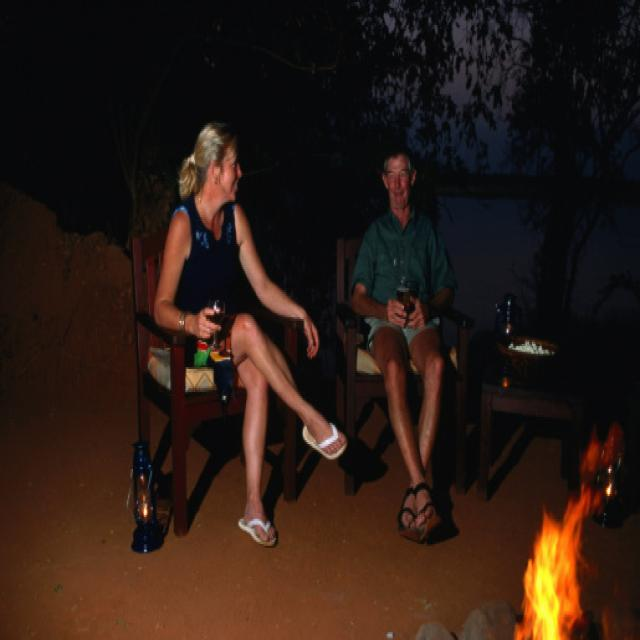People: (164, 103, 335, 570), (358, 125, 461, 563)
Table: (478, 297, 596, 481)
